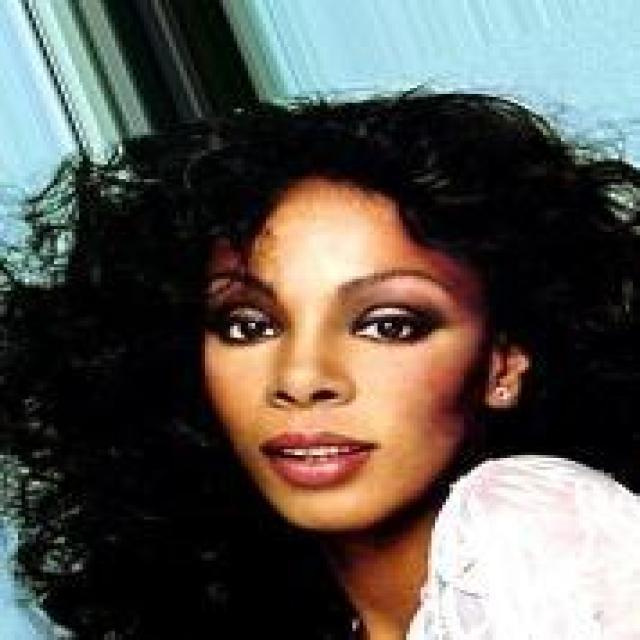bareface: (174, 177, 506, 544)
